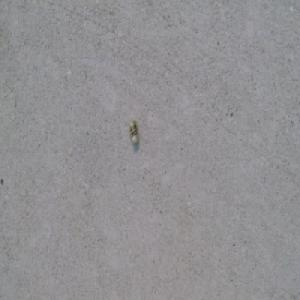BoltNutSet: (128, 120, 139, 145)
